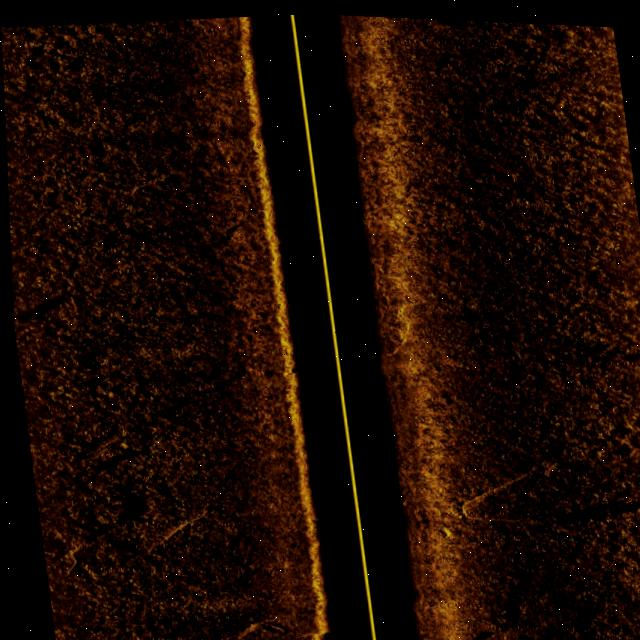mine: (426, 519, 455, 540)
